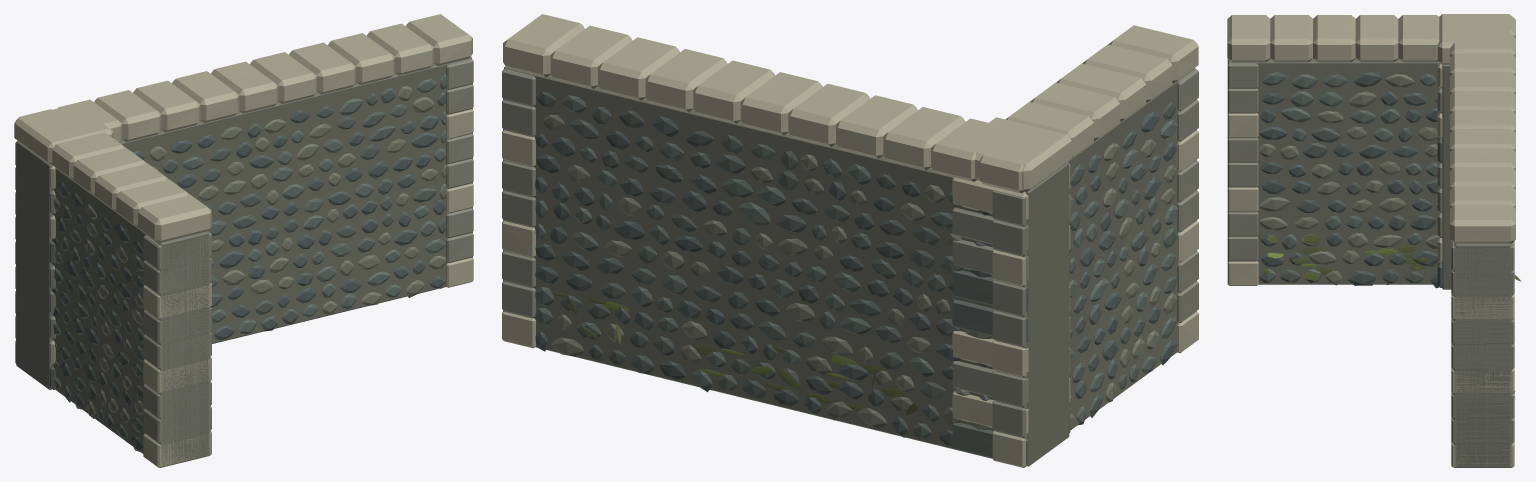
Rendered from flint_wall_corner.glb.
3 renders of one model, left to right at view 1: azimuth 30°, elevation 25°; view 2: azimuth 150°, elevation 25°; view 3: azimuth 270°, elevation 25°, orthographic. The views are drawn at different scales.
Visible parts, largest first — view 1: Detailed structure surfaces; view 2: Detailed structure surfaces; view 3: Detailed structure surfaces.
Boxes of the visible parts, x1=… form: Detailed structure surfaces: x1=14, y1=14, x2=473, y2=467; Detailed structure surfaces: x1=502, y1=14, x2=1198, y2=467; Detailed structure surfaces: x1=1227, y1=14, x2=1521, y2=467.
Size of the model in its own units: 5.4 by 3 by 3.2.
Materials: 1 (1 with a texture image).
